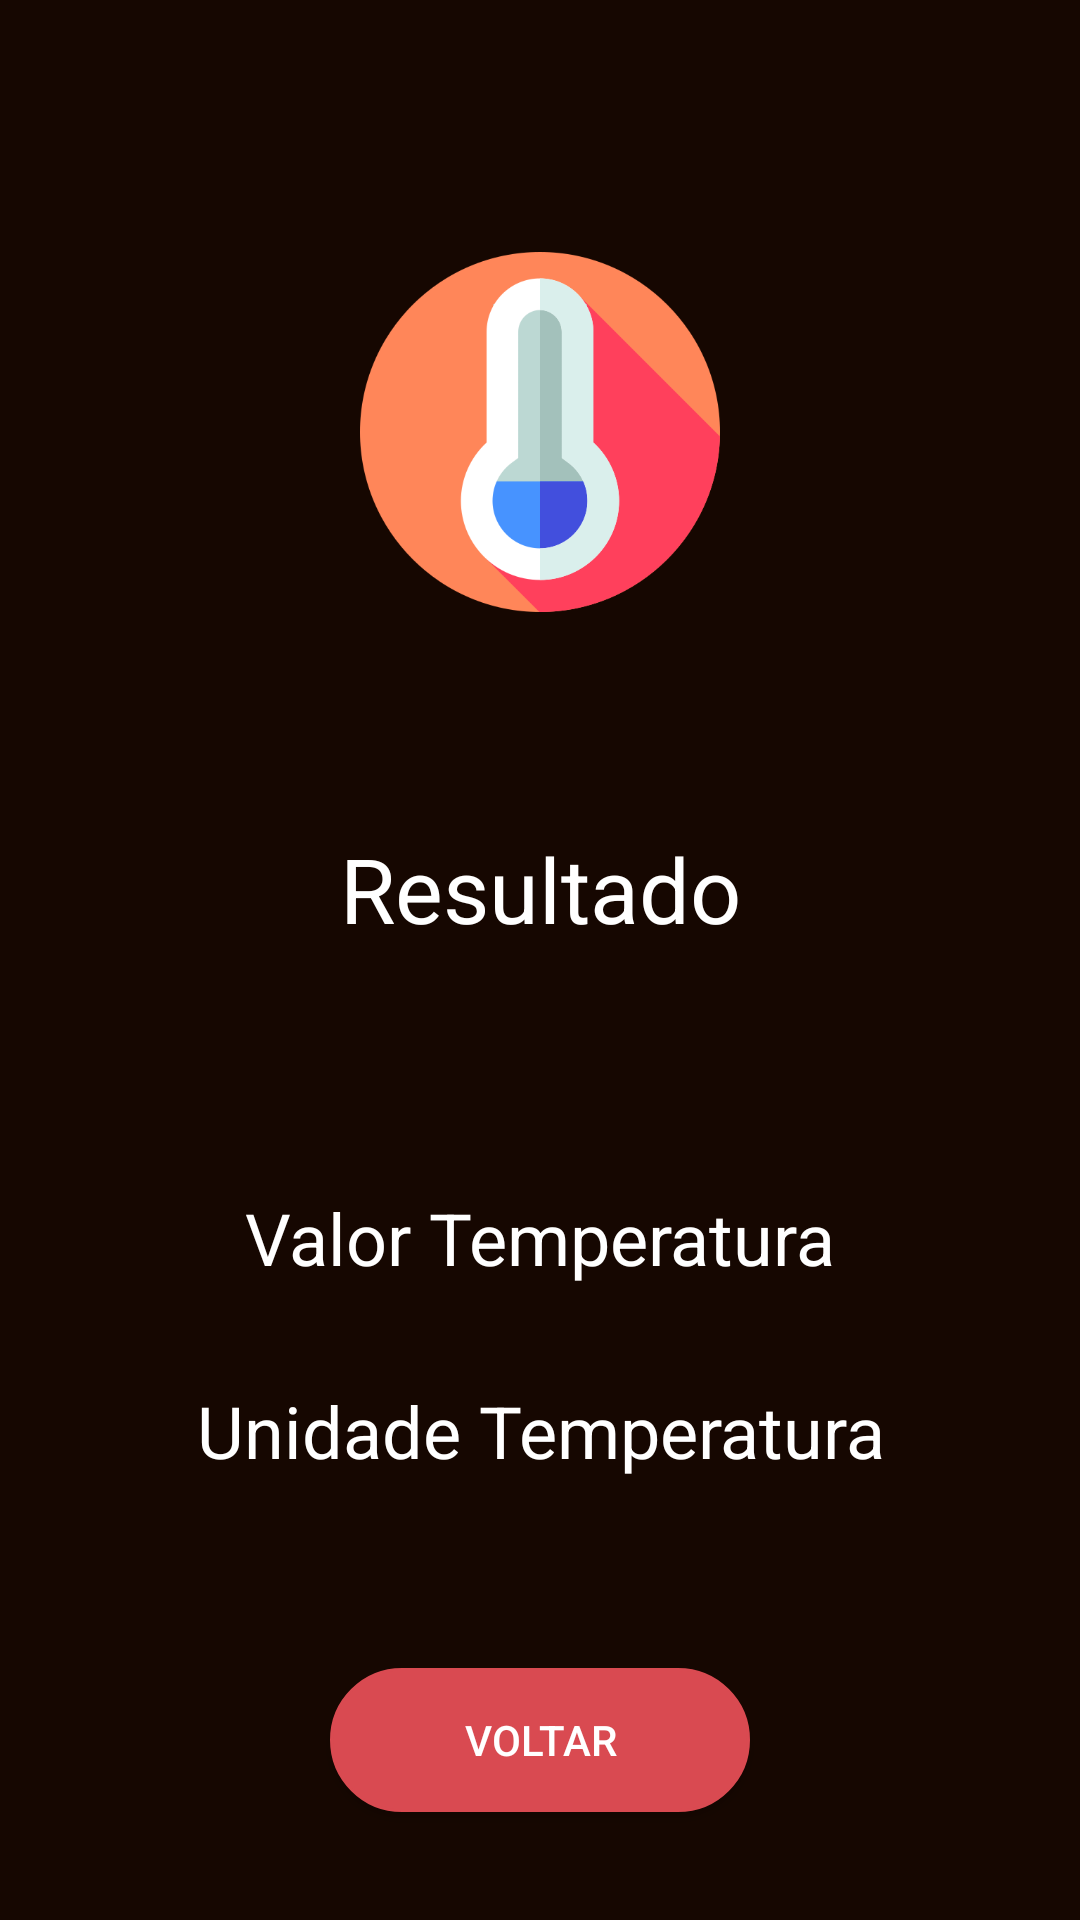

Icons on this 1080 x 1920 Android screen, each with the point to tap as point (x, y):
thermometer: point (540, 432)
